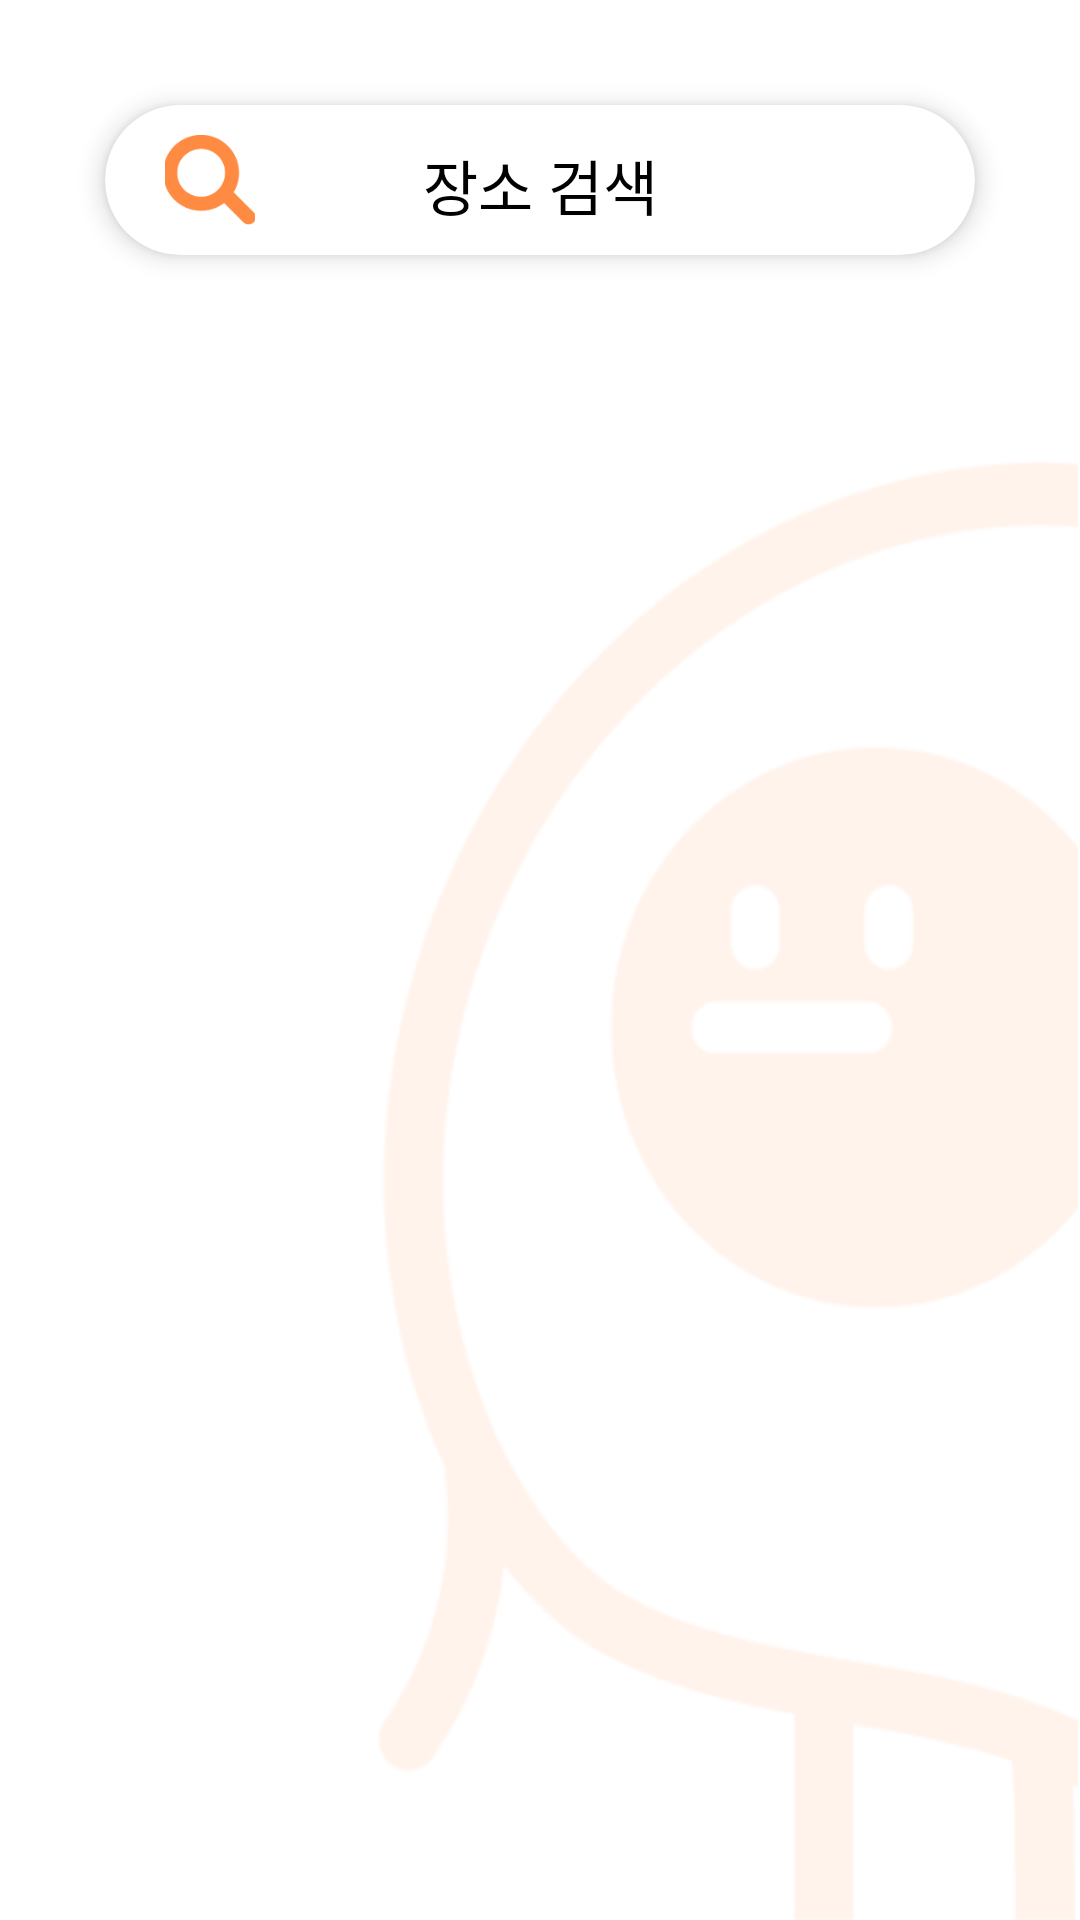

Icons on this 1080x1920 Android screen, each with its box as (x1, y1, x2, y2):
search: (165, 135, 255, 225)
